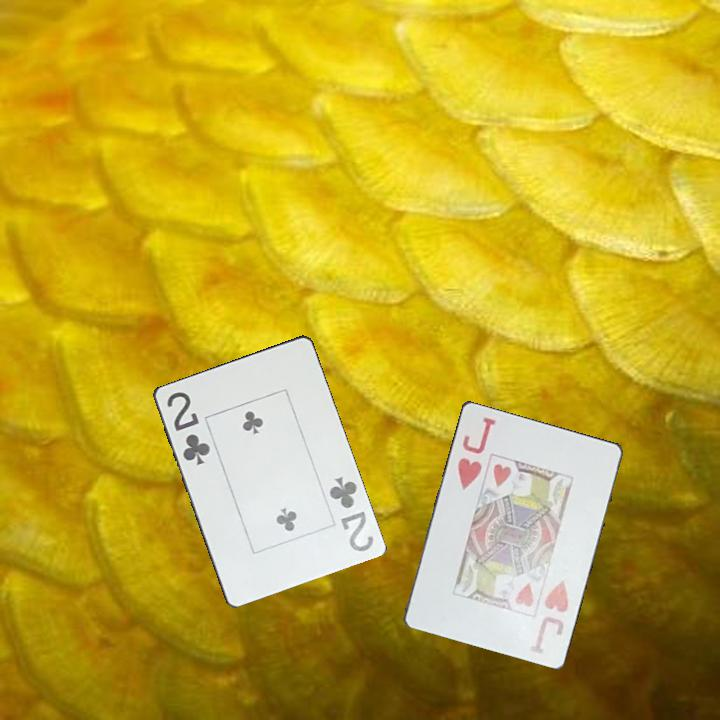2c: (325, 472, 376, 554), (163, 388, 213, 468)
Jh: (527, 576, 572, 656), (454, 413, 498, 493)
